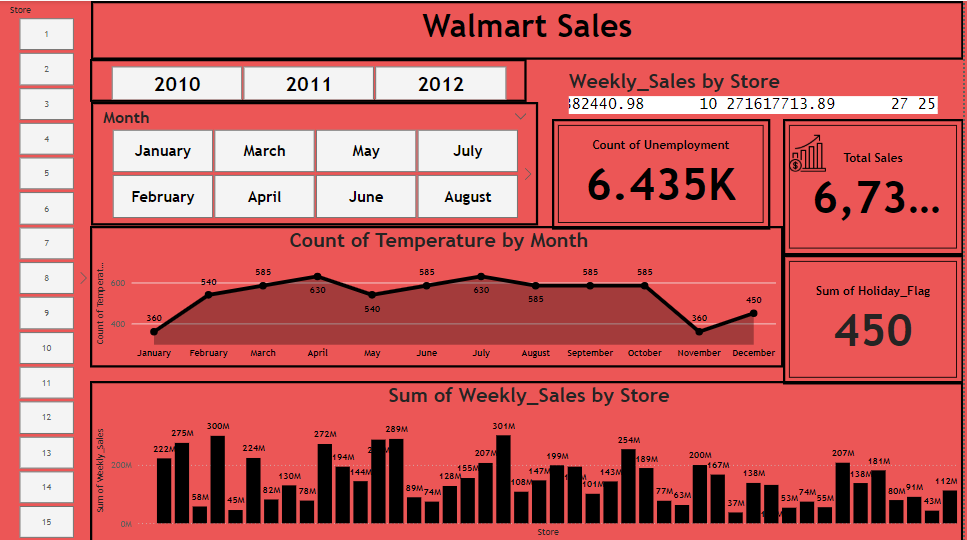

What the dashboard file says about the page in this screenshot:
{"tool":"powerbi","page":{"name":"Page 1","canvas":[1280,720],"ordinal":0},"visuals":[{"type":"cardVisual","fields":{"Data":["Dimantion T.Total Sales"]},"box":[1040.4,157.3,239.6,180.6],"z":0},{"type":"slicer","fields":{"Values":["Dimantion T.Store"]},"box":[0,0,121.6,720.4],"z":1000},{"type":"slicer","fields":{"Values":["Walmart_Sales.Date.Variation.Date Hierarchy.Year"]},"box":[120,77.6,579.5,57.1],"z":2000},{"type":"slicer","fields":{"Values":["Walmart_Sales.Date.Variation.Date Hierarchy.Month"]},"box":[121.5,134.6,594.1,163.9],"z":3000},{"type":"clusteredColumnChart","fields":{"Category":["Dimantion T.Store"],"Y":["Sum(Walmart_Sales.Weekly_Sales)"]},"box":[119.8,504.1,1160.2,216.3],"z":4000},{"type":"cardVisual","fields":{"Data":["Sum(Walmart_Sales.Holiday_Flag)"]},"box":[1040.4,337.9,239.6,171.6],"z":5000},{"type":"lineChart","fields":{"Y":["CountNonNull(Walmart_Sales.Temperature)"],"Category":["Walmart_Sales.Date.Variation.Date Hierarchy.Month"]},"box":[119.8,298.5,920.7,187.7],"z":6000},{"type":"cardVisual","fields":{"Data":["CountNonNull(Walmart_Sales.Unemployment)"]},"box":[733,157.3,289.6,146.6],"z":7000},{"type":"textbox","box":[121.5,0,1159,77.6],"z":8000},{"type":"image","box":[1040.5,172.7,64.4,58.5],"z":9000},{"type":"ScrollingTextVisual1448795304508","title":"Weekly_Sales by Store","fields":{"Category":["Dimantion T.Store"],"Measure Absolute":["Sum(Walmart_Sales.Weekly_Sales)"]},"box":[750,90,500,64],"z":9001}]}

Visuals, with their boxes in screenshot pixels (x1, y1, x2, y2), scaled from the page's 1280x720 canvas onto the 967x540 screenshot:
cardVisual - Dimantion T.Total Sales: x1=786, y1=118, x2=966, y2=253
slicer - Dimantion T.Store: x1=0, y1=0, x2=92, y2=539
slicer - Walmart_Sales.Date.Variation.Date Hierarchy.Year: x1=91, y1=58, x2=528, y2=101
slicer - Walmart_Sales.Date.Variation.Date Hierarchy.Month: x1=92, y1=101, x2=541, y2=224
clusteredColumnChart - Dimantion T.Store x Sum(Walmart_Sales.Weekly_Sales): x1=91, y1=378, x2=966, y2=539
cardVisual - Sum(Walmart_Sales.Holiday_Flag): x1=786, y1=253, x2=966, y2=382
lineChart - CountNonNull(Walmart_Sales.Temperature) x Walmart_Sales.Date.Variation.Date Hierarchy.Month: x1=91, y1=224, x2=786, y2=365
cardVisual - CountNonNull(Walmart_Sales.Unemployment): x1=554, y1=118, x2=773, y2=228
textbox: x1=92, y1=0, x2=966, y2=58
image: x1=786, y1=130, x2=835, y2=173
"Weekly_Sales by Store" ScrollingTextVisual1448795304508: x1=567, y1=68, x2=944, y2=116
